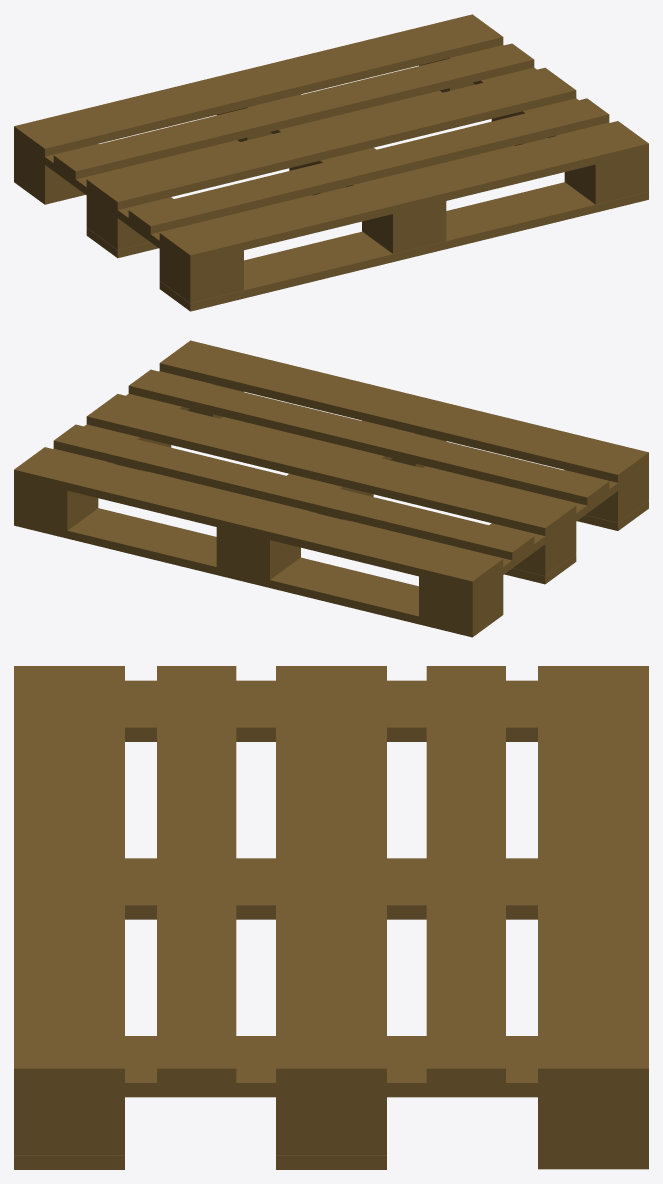
File: PaletEURO.fbx
3 views of the same model, one above another, from view 1: azimuth 30°, elevation 25°; view 2: azimuth 150°, elevation 25°; view 3: azimuth 270°, elevation 25° (orthographic). The views are drawn at different scales.
Parts seen in each view (by area): view 1: Cube.003, Cube, Cube.001, Cube.002, Cube.004, Cube.017, Cube.009, Cube.006, Cube.012, Cube.015, Cube.008, Cube.010 (+4 smaller); view 2: Cube.003, Cube.001, Cube, Cube.002, Cube.004, Cube.018, Cube.010, Cube.006, Cube.013, Cube.016, Cube.008, Cube.009 (+4 smaller); view 3: Cube, Cube.001, Cube.003, Cube.002, Cube.004, Cube.007, Cube.005, Cube.006, Cube.014, Cube.015, Cube.016, Cube.017 (+2 smaller).
Part boxes in pixels (box(x1,y1,x2,y2)): Cube.003: box(86, 67, 576, 209); Cube: box(159, 121, 648, 263); Cube.001: box(14, 14, 503, 156); Cube.002: box(128, 98, 609, 234); Cube.004: box(53, 43, 534, 179); Cube.017: box(159, 182, 648, 311); Cube.009: box(159, 249, 243, 303); Cube.006: box(14, 134, 243, 271); Cube.012: box(362, 209, 446, 253); Cube.015: box(564, 159, 648, 204); Cube.008: box(86, 196, 149, 249); Cube.010: box(14, 142, 77, 196); Cube.003: box(86, 394, 576, 535); Cube.001: box(14, 447, 503, 589); Cube: box(159, 340, 648, 482); Cube.002: box(128, 369, 609, 505); Cube.004: box(53, 424, 534, 560); Cube.018: box(14, 508, 503, 637); Cube.010: box(419, 575, 503, 629); Cube.006: box(419, 460, 648, 597); Cube.013: box(216, 535, 300, 579); Cube.016: box(14, 485, 98, 530); Cube.008: box(513, 522, 576, 575); Cube.009: box(585, 468, 648, 522); Cube: box(14, 666, 124, 1082); Cube.001: box(538, 666, 648, 1082); Cube.003: box(276, 666, 386, 1082); Cube.002: box(157, 666, 236, 1082); Cube.004: box(426, 666, 505, 1082); Cube.007: box(14, 1036, 648, 1097); Cube.005: box(125, 858, 537, 919); Cube.006: box(125, 680, 537, 741); Cube.014: box(276, 1097, 386, 1154); Cube.015: box(14, 1097, 124, 1154); Cube.016: box(538, 1097, 648, 1154); Cube.017: box(14, 1155, 124, 1169).
Size of the model in its own units: 120 by 14.06 by 80.
